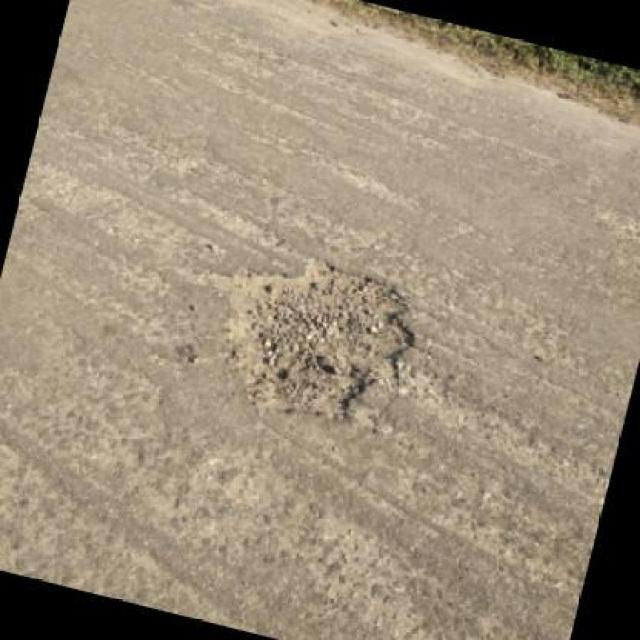pothole: (175, 231, 432, 447)
